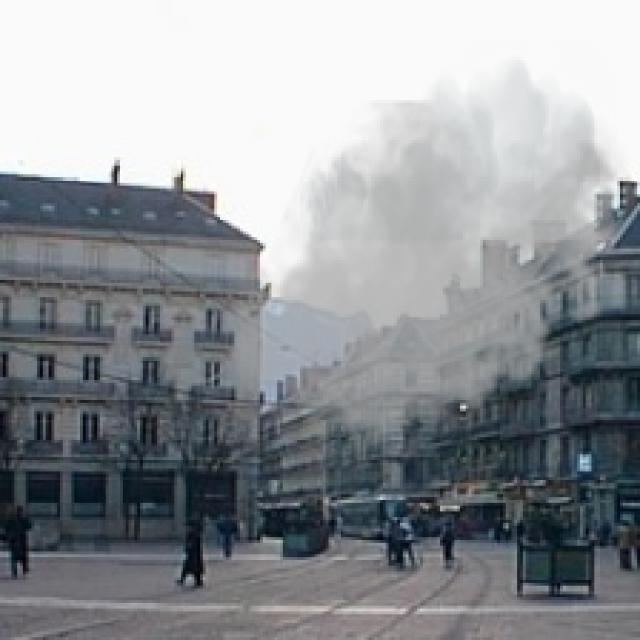smoke: (223, 40, 631, 466)
